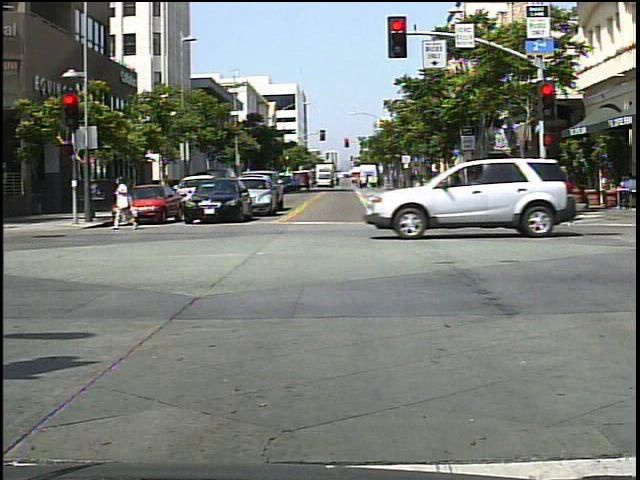person: (110, 171, 142, 235), (544, 169, 577, 231), (549, 160, 571, 211)
